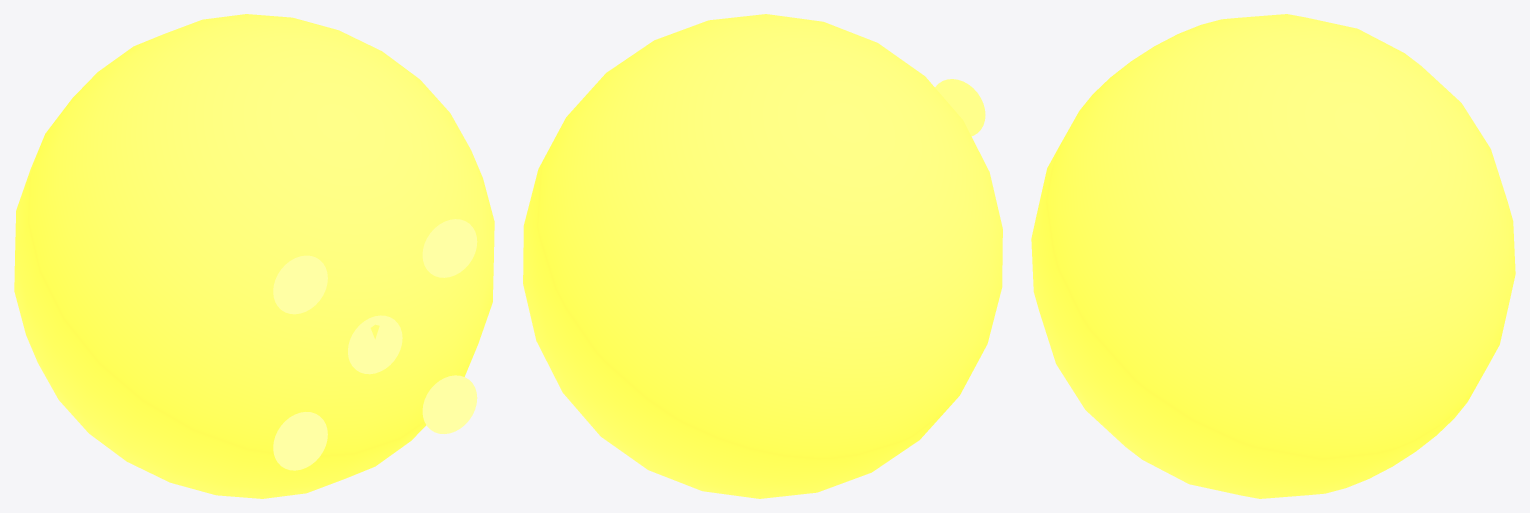
The model's file is ball-5.glb.
3 views of the same model, side by side, from view 1: azimuth 30°, elevation 25°; view 2: azimuth 150°, elevation 25°; view 3: azimuth 270°, elevation 25° (orthographic).
Parts seen in each view (by area): view 1: BallGlow, LogosGlow; view 2: BallGlow, LogosGlow; view 3: BallGlow.
Boxes of the visible parts, x1,y1,x2,y2 form: BallGlow: (14,14,494,498); LogosGlow: (273,219,477,470); BallGlow: (523,14,1002,498); LogosGlow: (935,79,985,136); BallGlow: (1031,14,1515,498).
Size of the model in its own units: 0.333 by 0.3376 by 0.3368.
